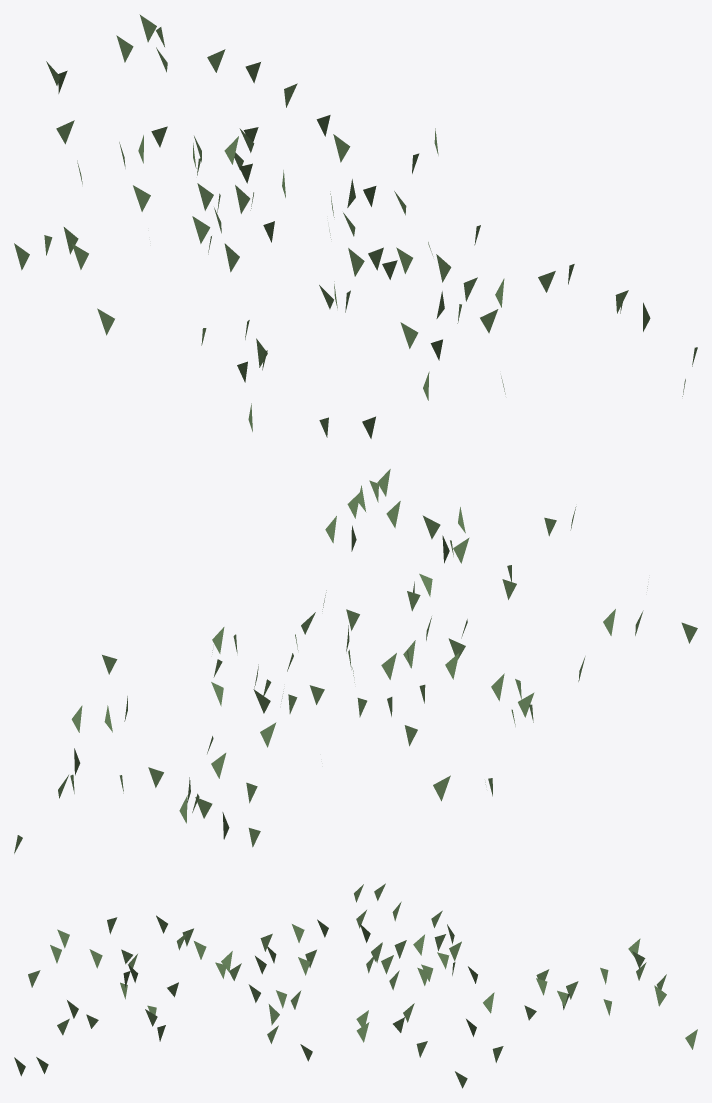
File: xiyuan-vegetation-30-far.glb
The picture shows the model from 3 angles, top to bottom: view 1: azimuth 30°, elevation 25°; view 2: azimuth 150°, elevation 25°; view 3: azimuth 270°, elevation 25°; orthographic projection. The views are drawn at different scales.
Parts seen in each view (by area): view 1: shrubs; view 2: shrubs; view 3: shrubs.
Part boxes in pixels (x1,y1,x2,y2): shrubs: (14, 14, 697, 438); shrubs: (14, 469, 697, 853); shrubs: (14, 883, 697, 1088).
Size of the model in its own units: 3.93 by 1.3 by 7.61.
